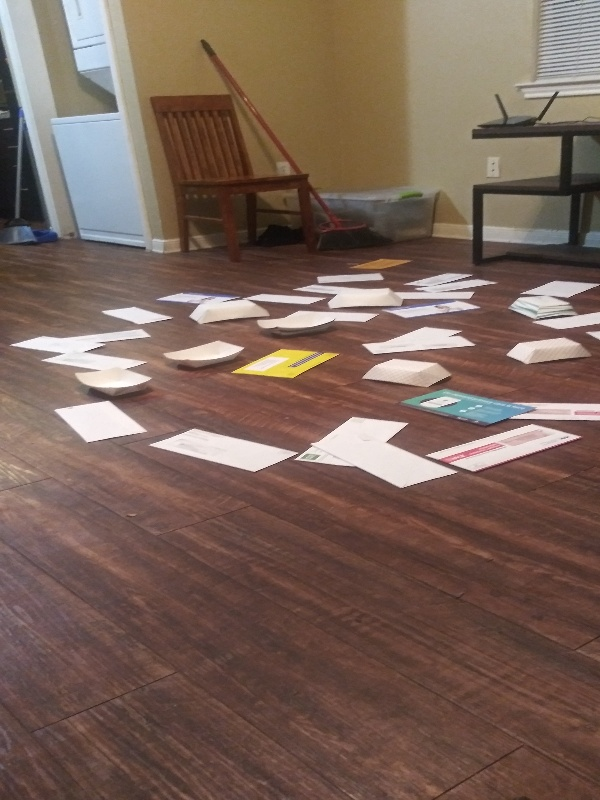plate: (355, 356, 456, 390), (502, 335, 595, 371), (159, 339, 251, 373), (73, 364, 155, 398), (185, 298, 274, 329), (255, 311, 338, 339), (505, 293, 582, 321), (322, 285, 405, 310)
